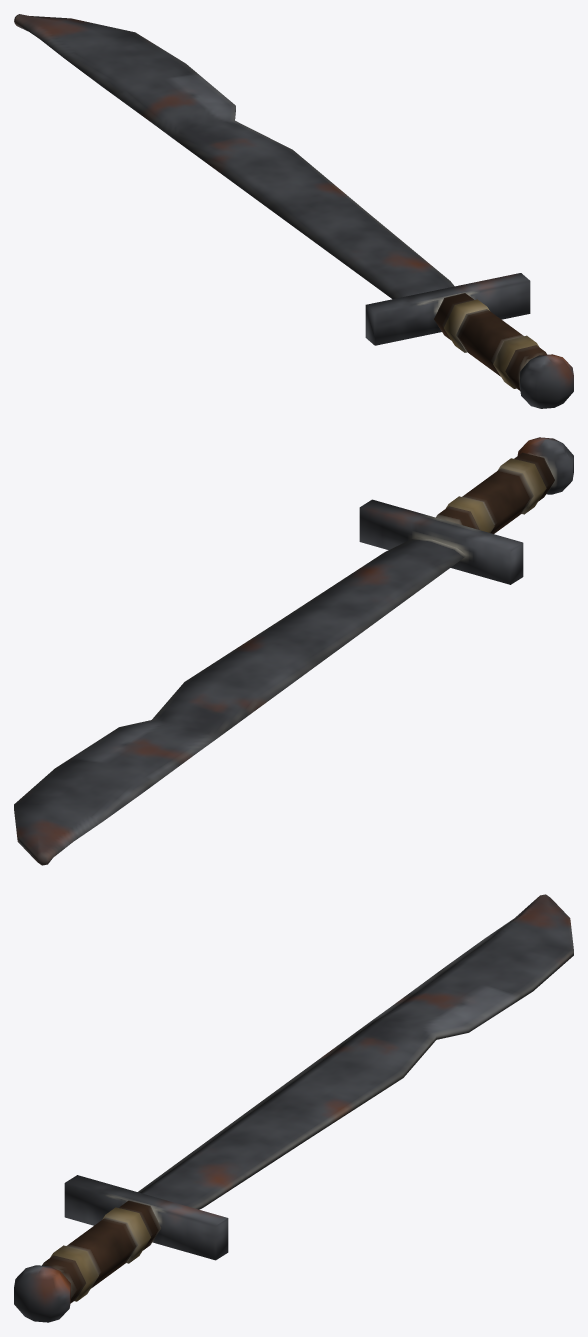
The model's file is Prop_Sword.fbx.
3 renders of one model, top to bottom at view 1: azimuth 30°, elevation 25°; view 2: azimuth 150°, elevation 25°; view 3: azimuth 330°, elevation 25°, orthographic. The views are drawn at different scales.
Visible parts, largest first — view 1: Prop_Sword; view 2: Prop_Sword; view 3: Prop_Sword.
Part boxes in pixels (<box>): Prop_Sword: <box>14,14,573,408</box>; Prop_Sword: <box>14,437,573,865</box>; Prop_Sword: <box>14,894,573,1322</box>.
Bounding box in the file's own units: 0.1057 × 0.034 × 0.6279.
